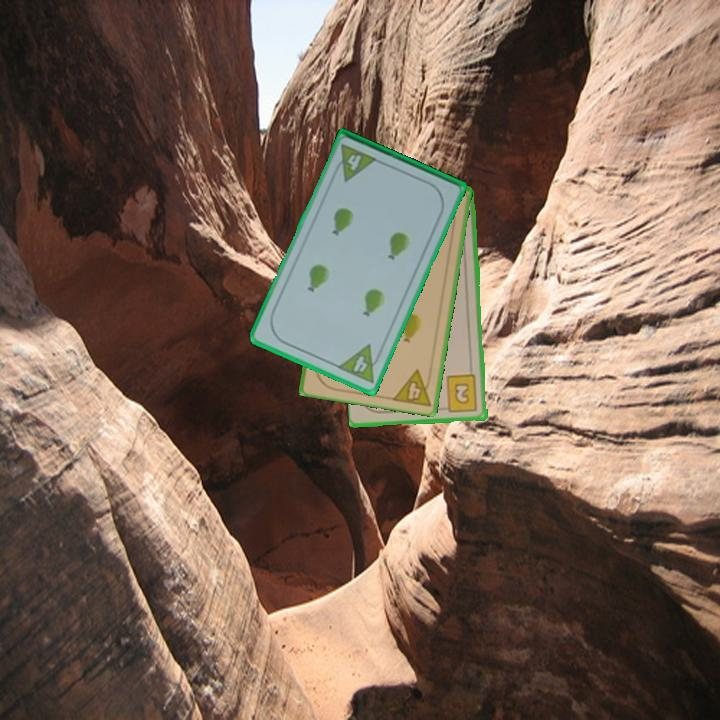2b: (439, 372, 480, 415)
4p: (334, 341, 386, 386), (329, 141, 380, 184), (389, 366, 435, 409)
